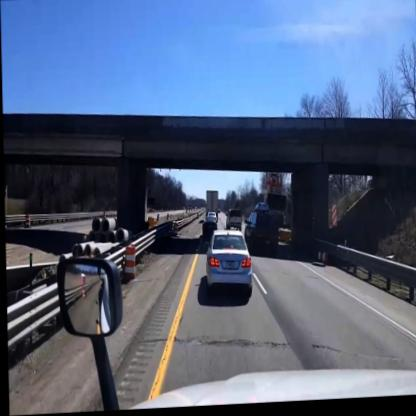obstacle: (122, 245, 137, 288)
